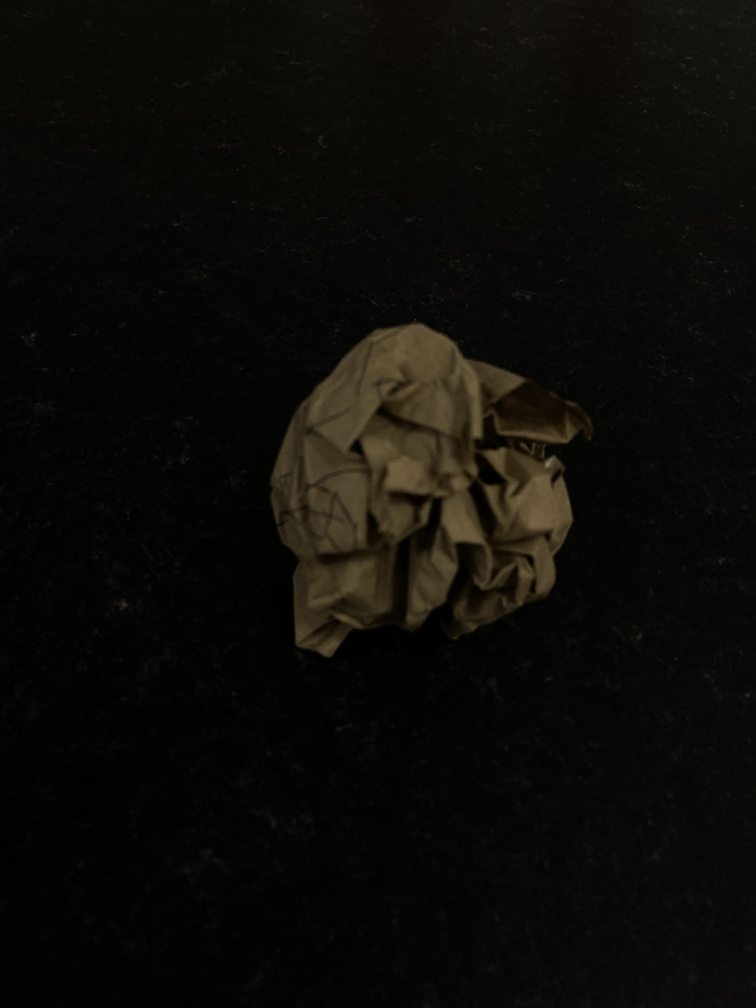paper_brown: (260, 312, 602, 665)
